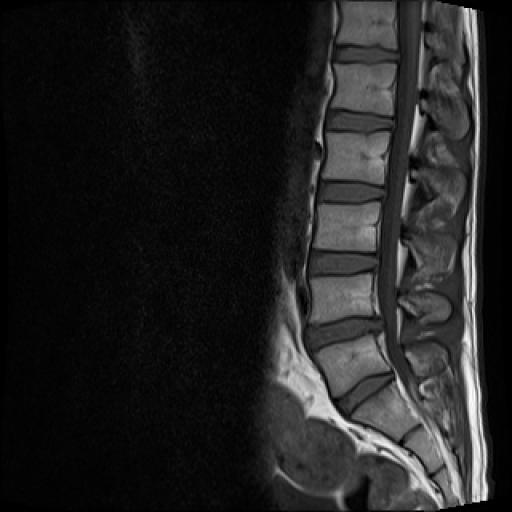L1: (332, 63, 394, 116)
L2: (322, 131, 388, 184)
L3: (314, 202, 380, 252)
L4: (310, 273, 374, 322)
L5: (315, 335, 390, 396)
S1: (351, 382, 418, 442)
